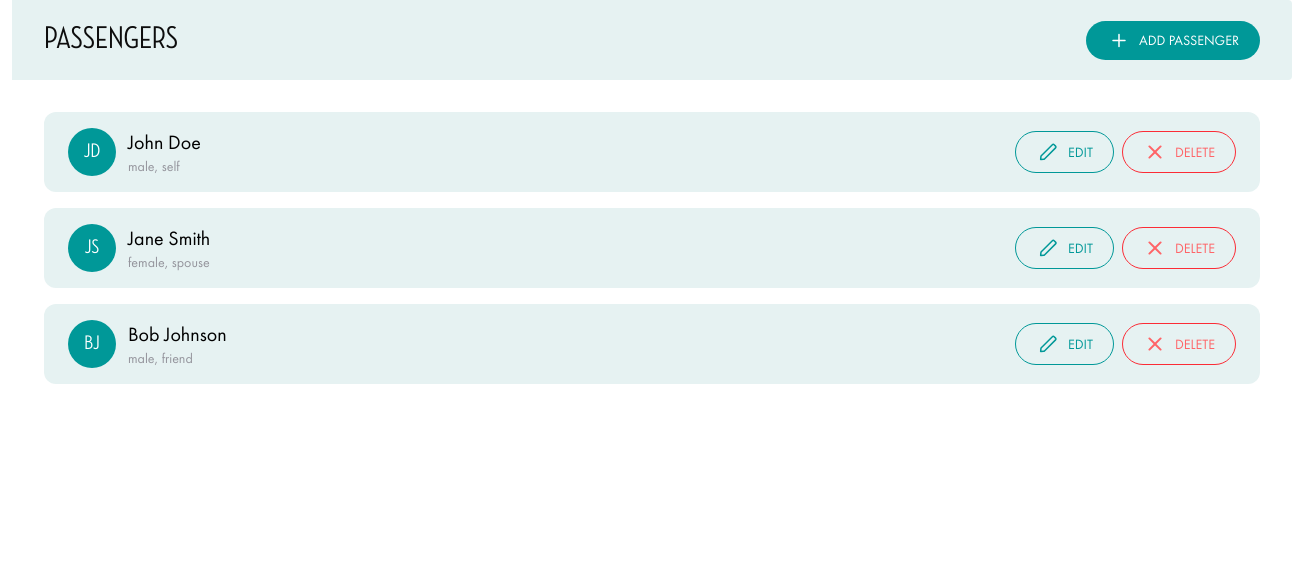
Scenario: TravellersTab Component › Delete Passenger Functionality › should show delete confirmation modal when Delete button is clicked
Expected: the text "John Doe" is shown, [128,128,201,156]
Click the button "Delete" in the row of "John Doe".
click(1179, 152)  # box [1122,131,1236,173]
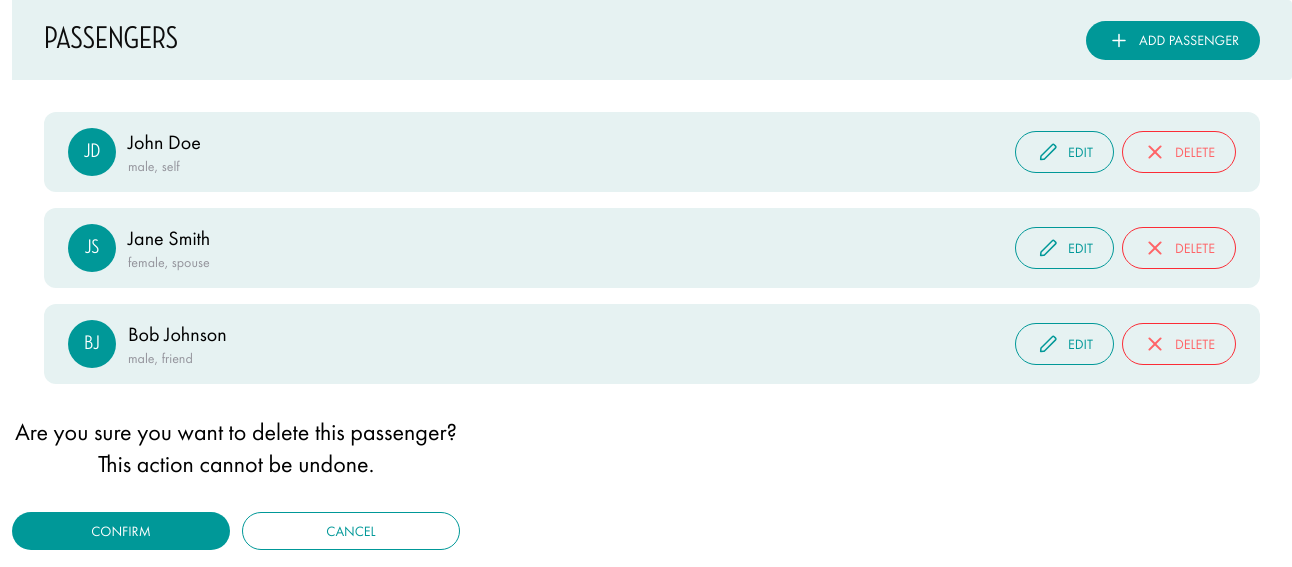
Expected: the text "Are you sure you want to delete this passenger? This action cannot be undone." is shown, [12,416,460,480]
Expected: the button "Cancel" is shown, [242,512,460,550]
Expected: the button "Confirm" is shown, [12,512,230,550]
